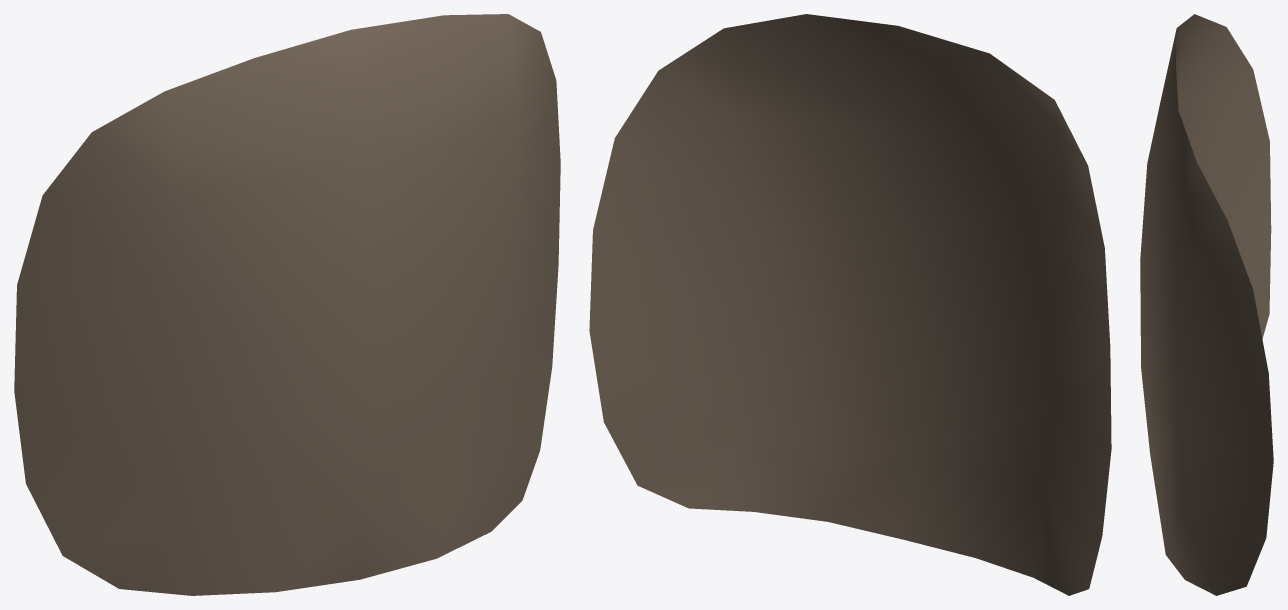
Rendered from MD_nail_FootL.Ring.fbx.
3 renders of one model, left to right at view 1: azimuth 30°, elevation 25°; view 2: azimuth 150°, elevation 25°; view 3: azimuth 270°, elevation 25°, orthographic. The views are drawn at different scales.
Visible parts, largest first — view 1: MD_nail_FootL.Ring; view 2: MD_nail_FootL.Ring; view 3: MD_nail_FootL.Ring.
Part boxes in pixels (<box>): MD_nail_FootL.Ring: <box>14,14,560,595</box>; MD_nail_FootL.Ring: <box>589,14,1111,595</box>; MD_nail_FootL.Ring: <box>1140,14,1273,595</box>.
Size of the model in its own units: 0.6334 by 0.6041 by 0.1591.
